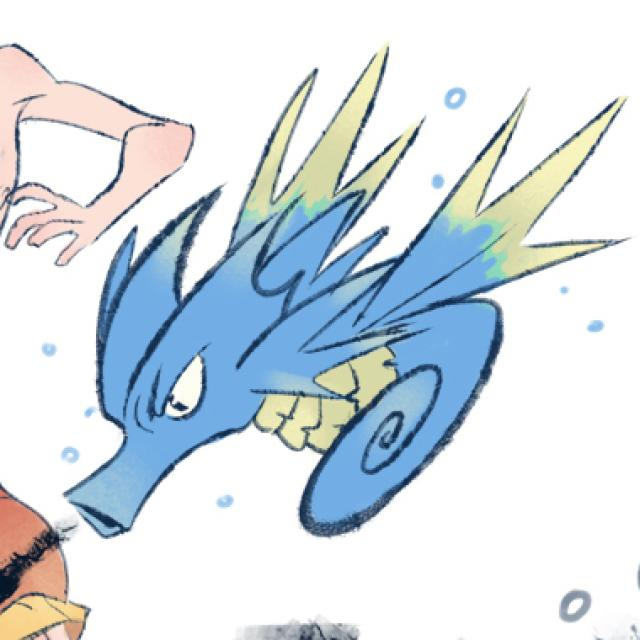Seadra: (74, 173, 536, 544)
